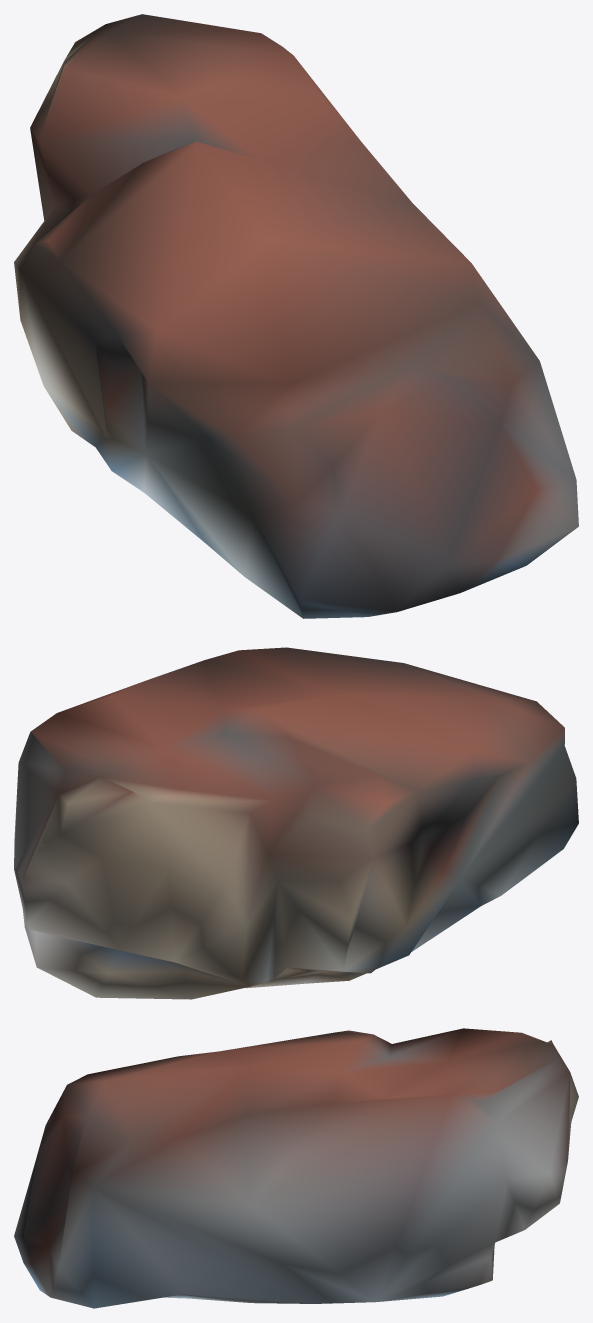
File: rock_07_far.glb
3 views of the same model, one above another, from view 1: azimuth 30°, elevation 25°; view 2: azimuth 150°, elevation 25°; view 3: azimuth 270°, elevation 25° (orthographic). The views are drawn at different scales.
Visible parts, largest first — view 1: rock_07; view 2: rock_07; view 3: rock_07.
Part boxes in pixels (box(x1,y1,x2,y2)): rock_07: box(14, 14, 578, 618); rock_07: box(14, 647, 578, 999); rock_07: box(14, 1028, 578, 1308).
Size of the model in its own units: 0.1661 by 0.1409 by 0.3193.
